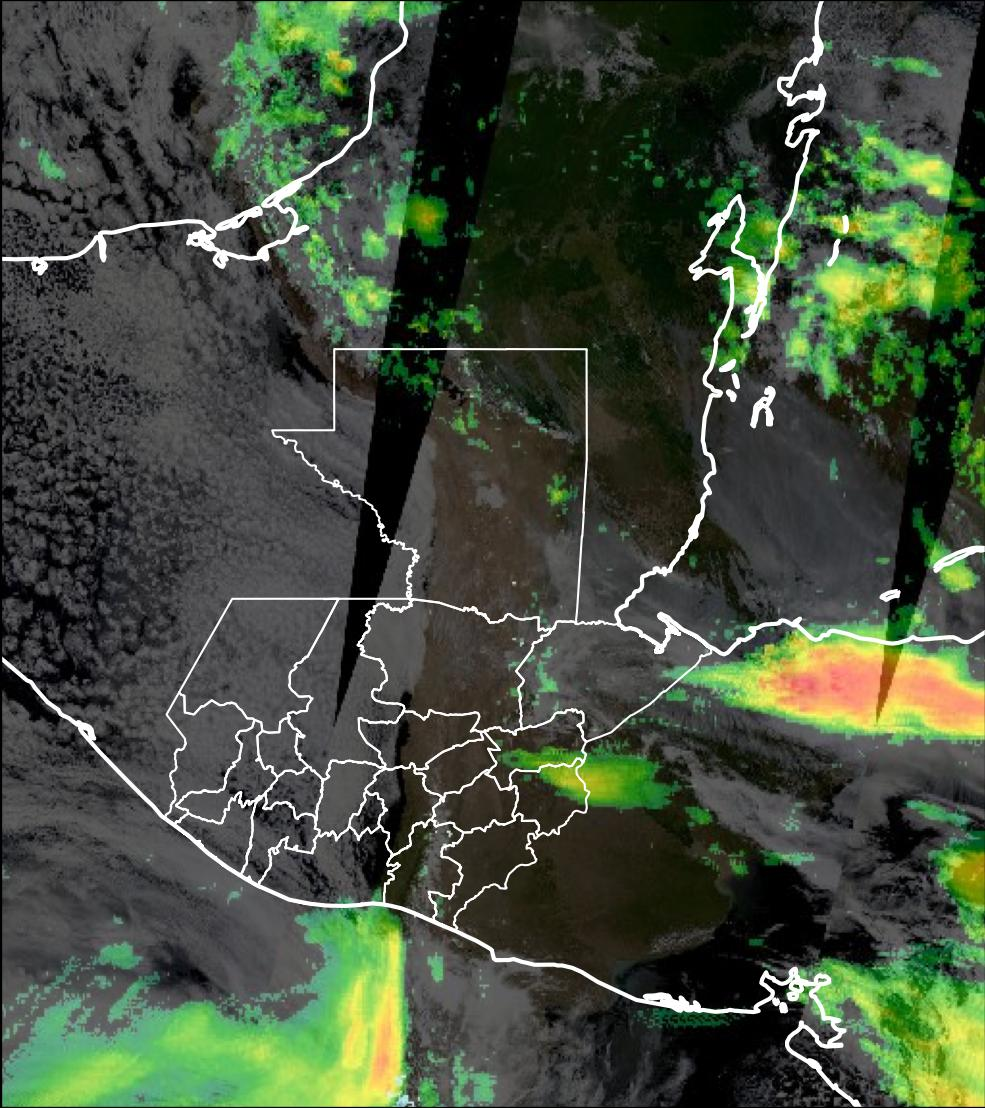precipitacion: (754, 625, 985, 763), (342, 970, 469, 1108)
